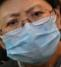with_mask: (1, 2, 61, 67)
